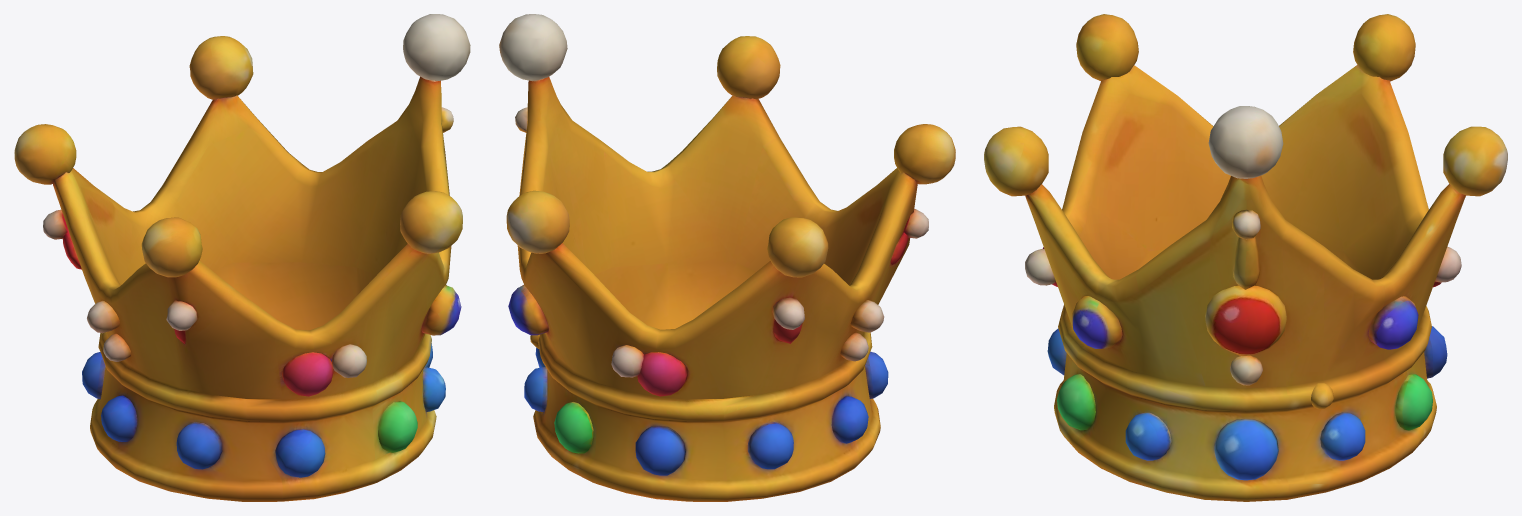
The model's file is gold-crown.glb.
3 views of the same model, side by side, from view 1: azimuth 30°, elevation 25°; view 2: azimuth 150°, elevation 25°; view 3: azimuth 270°, elevation 25° (orthographic). The views are drawn at different scales.
Parts seen in each view (by area): view 1: tripo_node_82b28064-927a-4f3c-ac10-d2f5b44a999d; view 2: tripo_node_82b28064-927a-4f3c-ac10-d2f5b44a999d; view 3: tripo_node_82b28064-927a-4f3c-ac10-d2f5b44a999d.
Boxes of the visible parts, left/top/right/bottom form: tripo_node_82b28064-927a-4f3c-ac10-d2f5b44a999d: left=14, top=14, right=470, bottom=501; tripo_node_82b28064-927a-4f3c-ac10-d2f5b44a999d: left=499, top=14, right=955, bottom=501; tripo_node_82b28064-927a-4f3c-ac10-d2f5b44a999d: left=984, top=14, right=1507, bottom=501.
Bounding box in the file's own units: 0.92 × 0.8613 × 0.998.
Materials: 1 (1 with a texture image).
